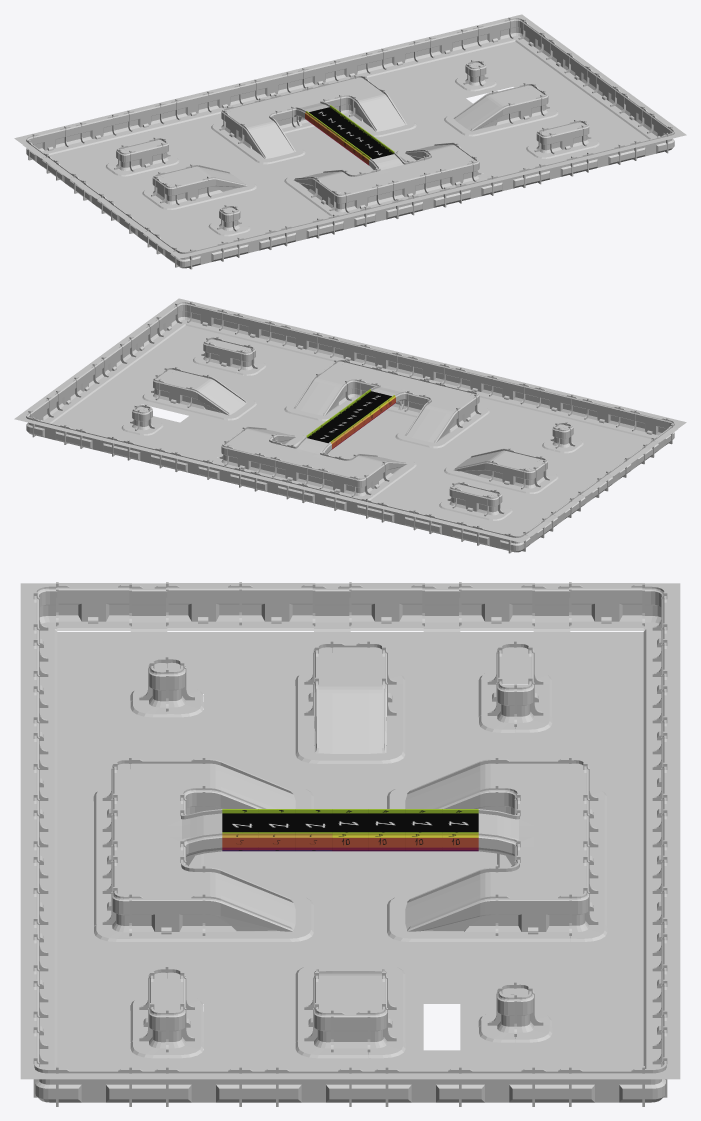
The model's file is Environment_Testing.fbx.
3 views of the same model, one above another, from view 1: azimuth 30°, elevation 25°; view 2: azimuth 150°, elevation 25°; view 3: azimuth 270°, elevation 25° (orthographic). The views are drawn at different scales.
Visible parts, largest first — view 1: Ramp, Ramp.001, Ramp.005, Ramp.004, Wall_Large.050, Wall_Large.020, Wall_Large.019, Wall_Large.011, Wall_Large.017, Wall_Large.024, Wall_Large.013, Wall_Large.021 (+40 smaller); view 2: Ramp.002, Ramp.005, Ramp.003, Ramp.004, Wall_Large.051, Wall_Large.031, Wall_Large.028, Wall_Large.049, Wall_Large.026, Wall_Large.010, Ramp, Wall_Large.012 (+40 smaller); view 3: Ramp.004, Ramp.003, Ramp.001, Ramp.002, Ramp, Wall_Large.000, Wall_Large.009, Wall_Large.039, Wall_Large.047, Wall_Large.045, Wall_Large.041, Wall_Large.040 (+80 smaller).
Boxes of the visible parts, bbox=[...] form: Ramp: bbox=[234, 118, 305, 164]; Ramp.001: bbox=[347, 91, 416, 137]; Ramp.005: bbox=[444, 90, 514, 136]; Ramp.004: bbox=[192, 164, 256, 199]; Wall_Large.050: bbox=[127, 143, 167, 174]; Wall_Large.020: bbox=[427, 30, 467, 60]; Wall_Large.019: bbox=[173, 92, 213, 122]; Wall_Large.011: bbox=[173, 177, 212, 207]; Wall_Large.017: bbox=[78, 115, 117, 145]; Wall_Large.024: bbox=[475, 18, 514, 49]; Wall_Large.013: bbox=[506, 95, 546, 126]; Wall_Large.021: bbox=[379, 41, 419, 72]; Ramp.002: bbox=[395, 400, 466, 448]; Ramp.005: bbox=[186, 376, 256, 420]; Ramp.003: bbox=[284, 373, 353, 421]; Ramp.004: bbox=[444, 448, 510, 483]; Wall_Large.051: bbox=[451, 487, 491, 518]; Wall_Large.031: bbox=[281, 324, 321, 356]; Wall_Large.028: bbox=[535, 386, 575, 418]; Wall_Large.049: bbox=[204, 342, 244, 373]; Wall_Large.026: bbox=[186, 301, 225, 333]; Wall_Large.010: bbox=[488, 460, 527, 491]; Ramp: bbox=[356, 453, 416, 483]; Wall_Large.012: bbox=[154, 379, 194, 410]; Ramp.004: bbox=[295, 677, 405, 763]; Ramp.003: bbox=[202, 867, 313, 941]; Ramp.001: bbox=[387, 864, 498, 941]; Ramp.002: bbox=[202, 759, 313, 810]; Ramp: bbox=[387, 756, 498, 810]; Wall_Large.000: bbox=[495, 892, 570, 941]; Wall_Large.009: bbox=[129, 892, 203, 941]; Wall_Large.039: bbox=[239, 582, 313, 630]; Wall_Large.047: bbox=[166, 582, 240, 630]; Wall_Large.045: bbox=[56, 582, 130, 630]; Wall_Large.041: bbox=[459, 582, 533, 630]; Wall_Large.040: bbox=[349, 582, 423, 630].
Size of the model in its own units: 6406 by 261 by 3600.
